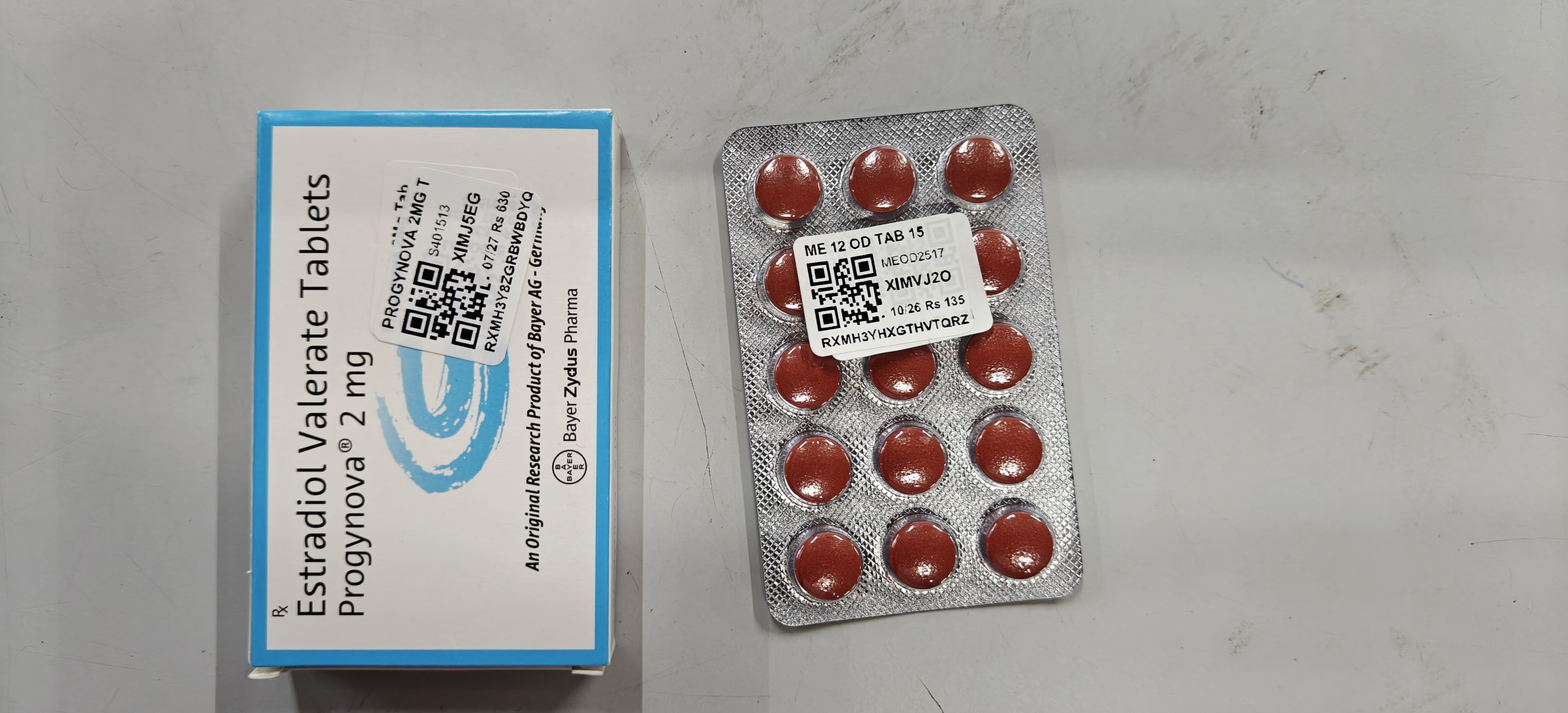qr_code: (401, 260, 493, 349), (806, 253, 886, 331)
